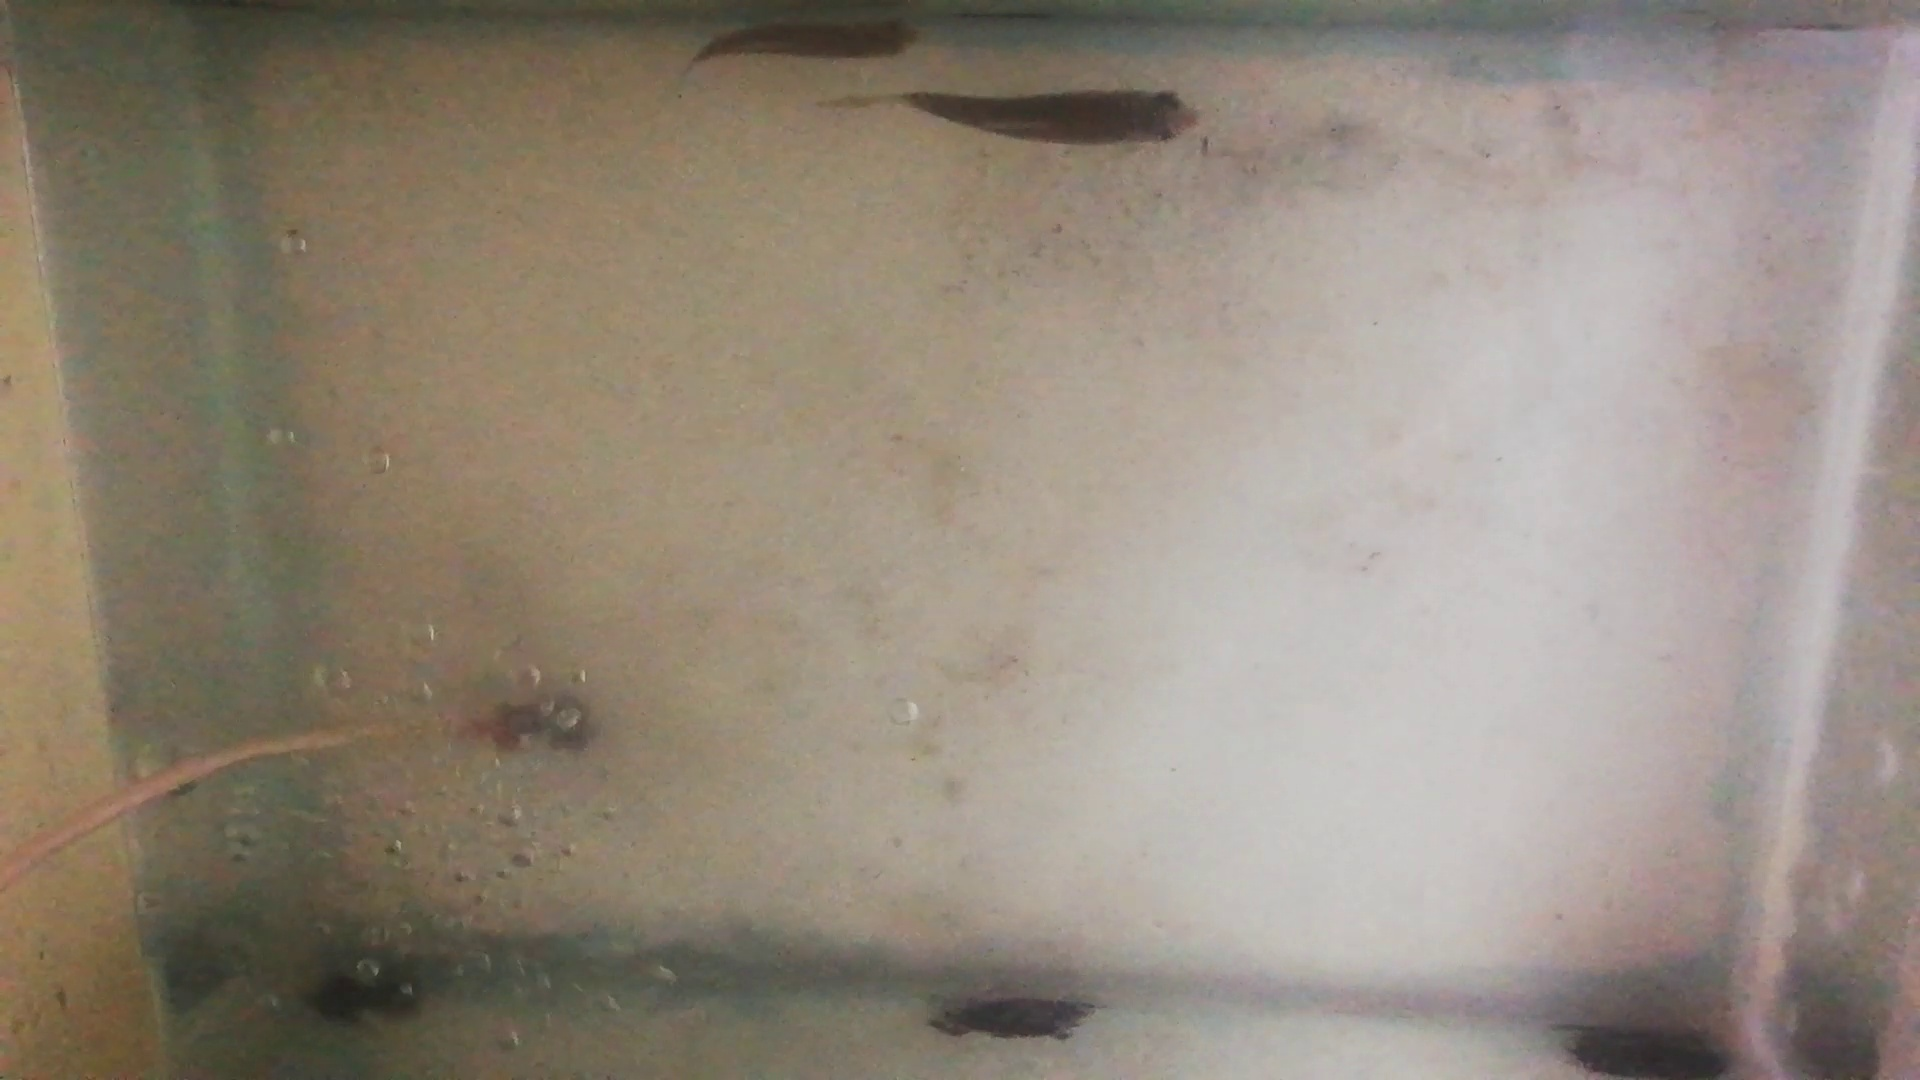fish: (899, 83, 1199, 152), (691, 16, 919, 63)
